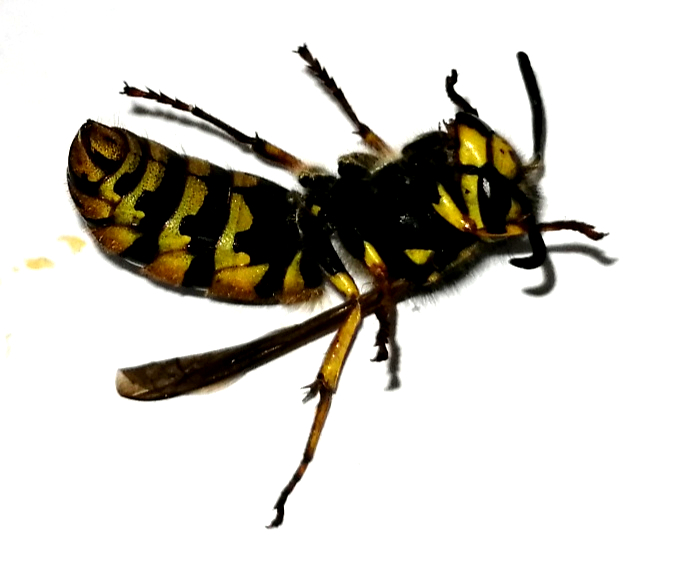chax: (55, 31, 630, 543)
